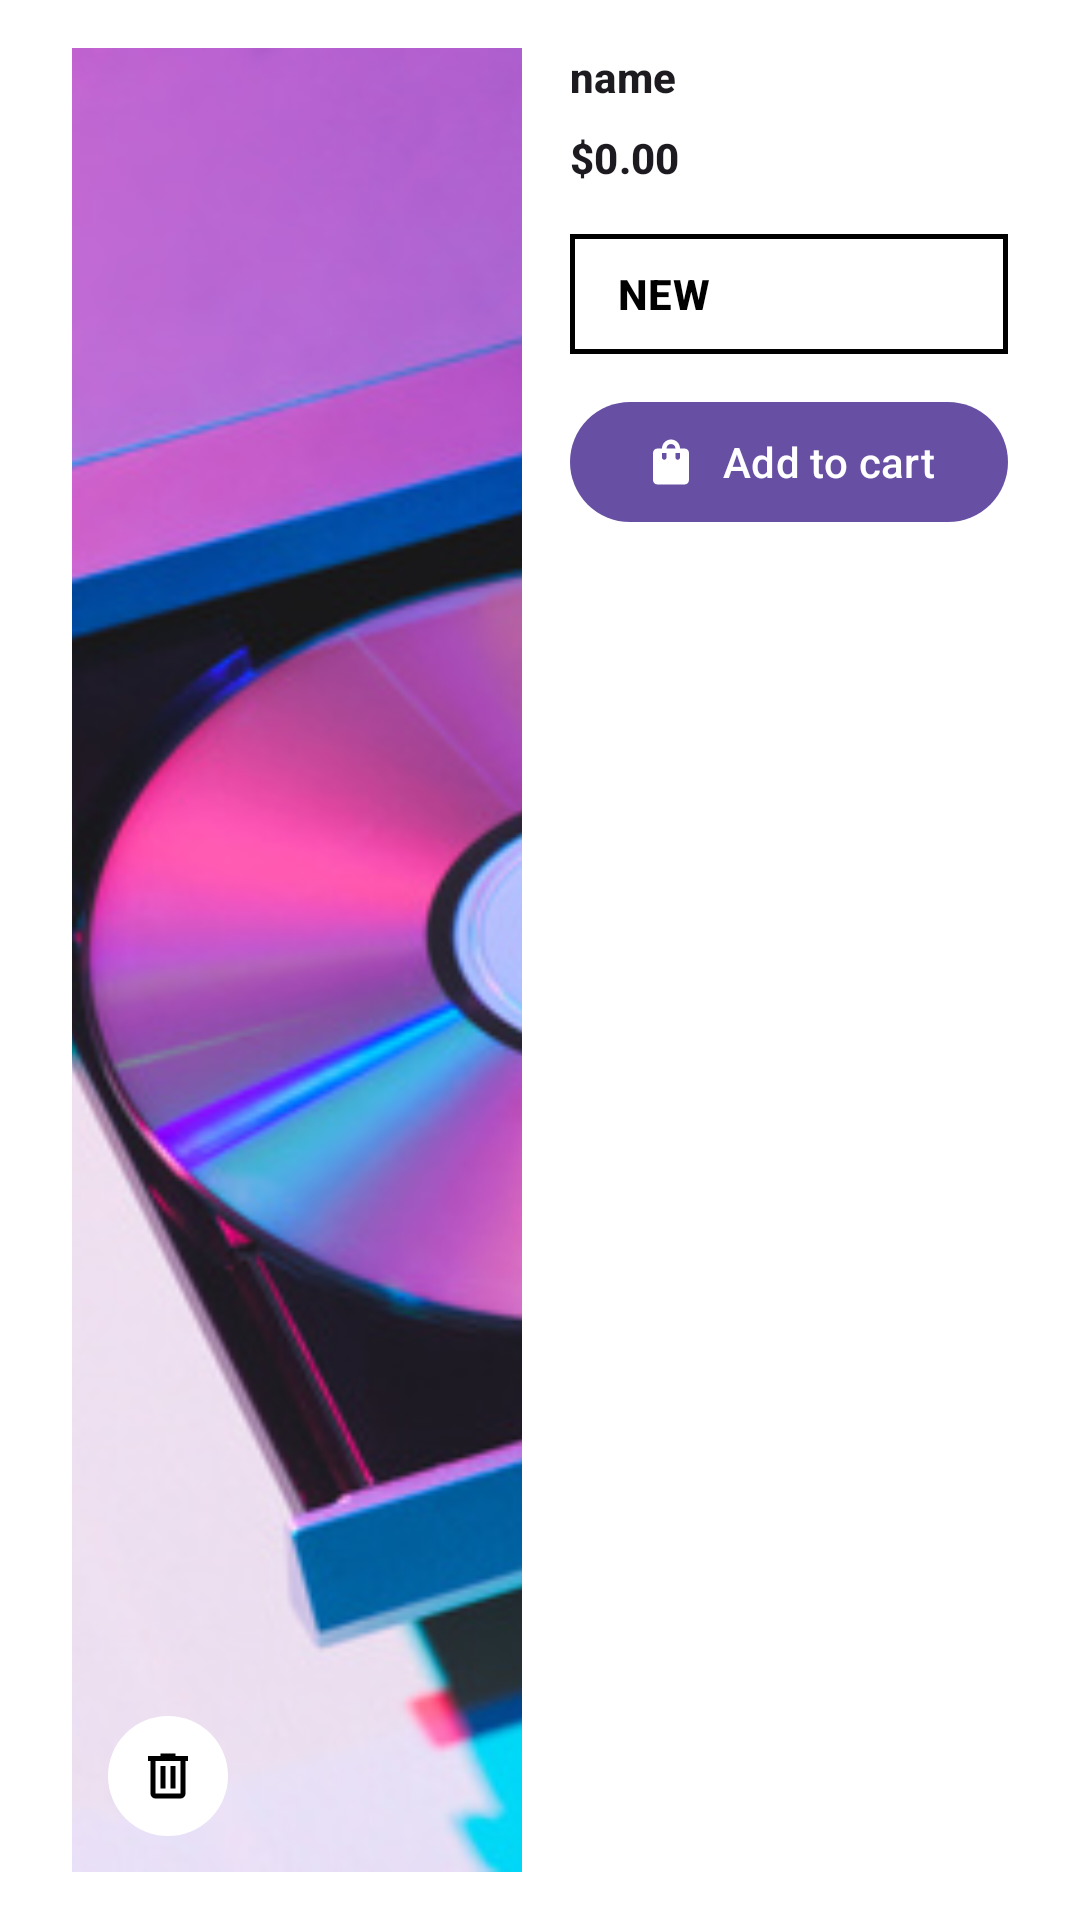

Icon bounding boxes for this 1080px x 1920px phone screenshot, format (x1, y1, x2, y2):
delete: (108, 1716, 228, 1836)
